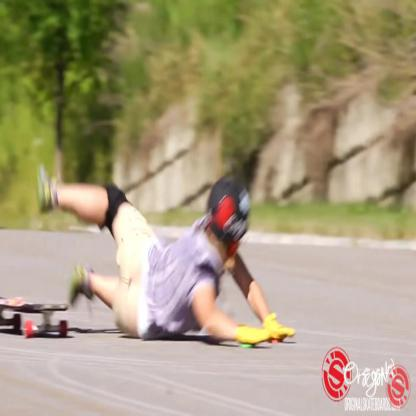Fall_Down: (34, 162, 299, 350)
